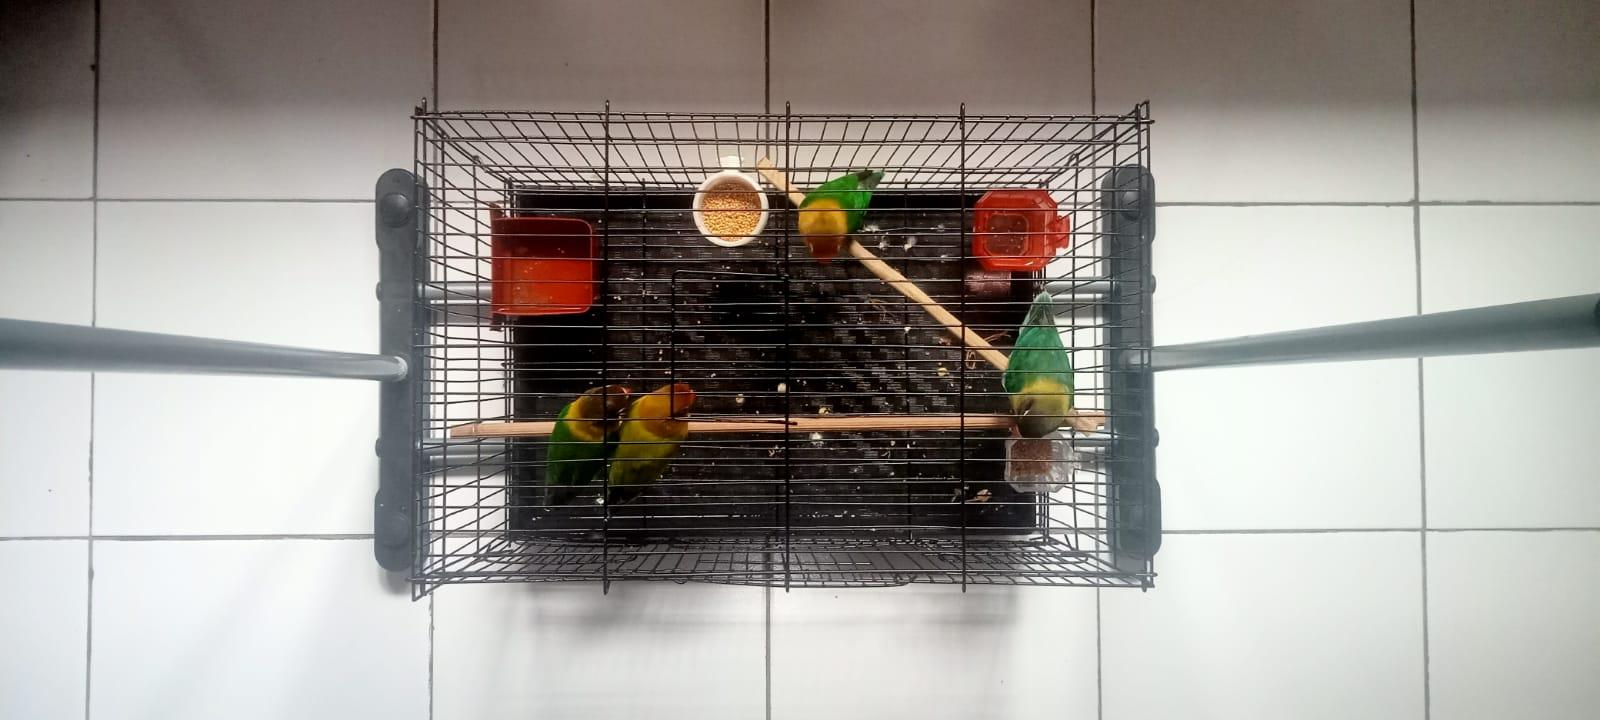LoveBird: (603, 382, 697, 521), (542, 384, 633, 512), (1002, 292, 1076, 438), (798, 170, 886, 263)
